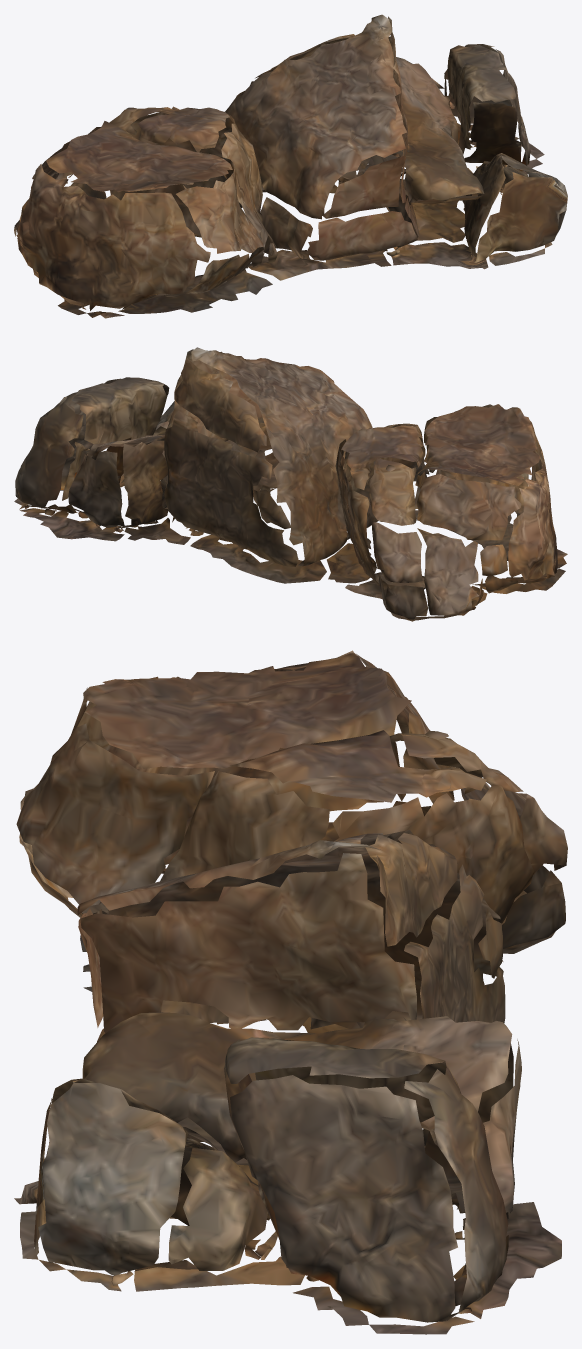
Rendered from namaqualand-boulder-02.glb.
The picture shows the model from 3 angles, top to bottom: view 1: azimuth 30°, elevation 25°; view 2: azimuth 150°, elevation 25°; view 3: azimuth 270°, elevation 25°; orthographic projection. The views are drawn at different scales.
Visible parts, largest first — view 1: boulder_02; view 2: boulder_02; view 3: boulder_02.
Part boxes in pixels (<box>): boulder_02: <box>14,14,567,318</box>; boulder_02: <box>14,347,567,621</box>; boulder_02: <box>14,650,567,1334</box>.
Bounding box in the file's own units: 2.5 × 0.8667 × 1.22.
1 material, 1 textured.
